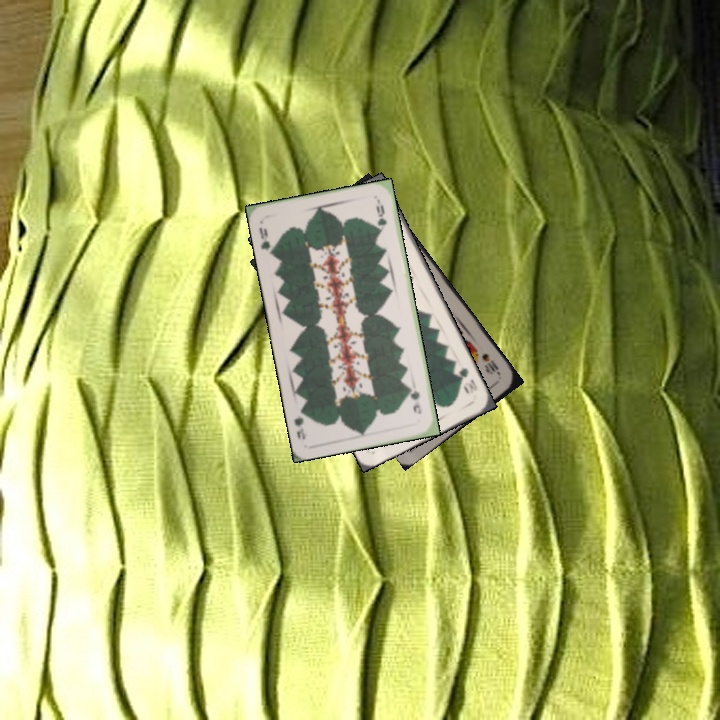G10: (454, 362, 480, 397)
G9: (255, 223, 276, 258), (406, 383, 424, 416)
S10: (477, 349, 503, 378)
